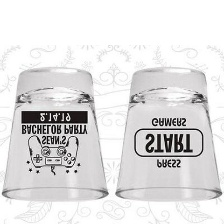glass: (113, 60, 223, 208), (0, 64, 113, 207)
